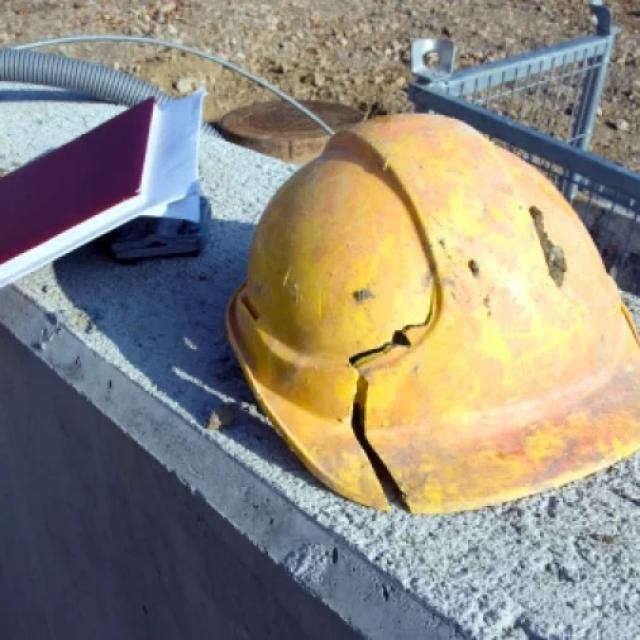BrokenHelmet: (325, 282, 483, 515)
